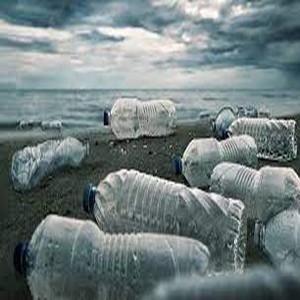Plastic: (18, 215, 209, 300), (6, 131, 91, 191), (178, 130, 257, 184), (102, 89, 181, 140)
